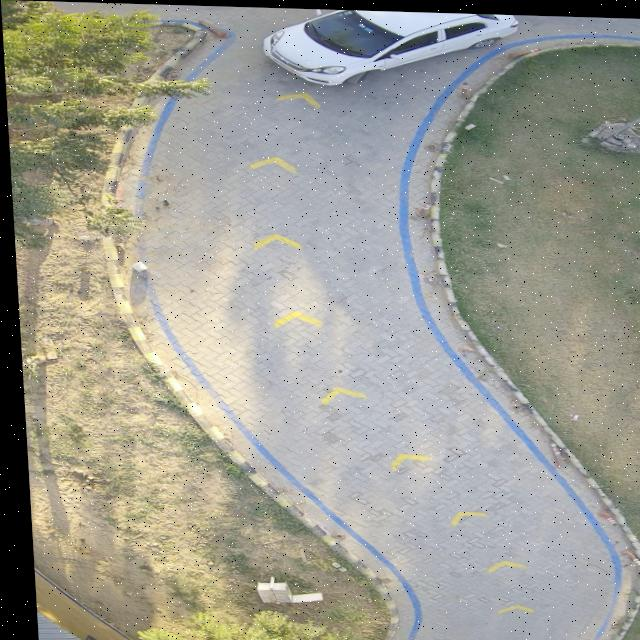car: (262, 8, 516, 83)
